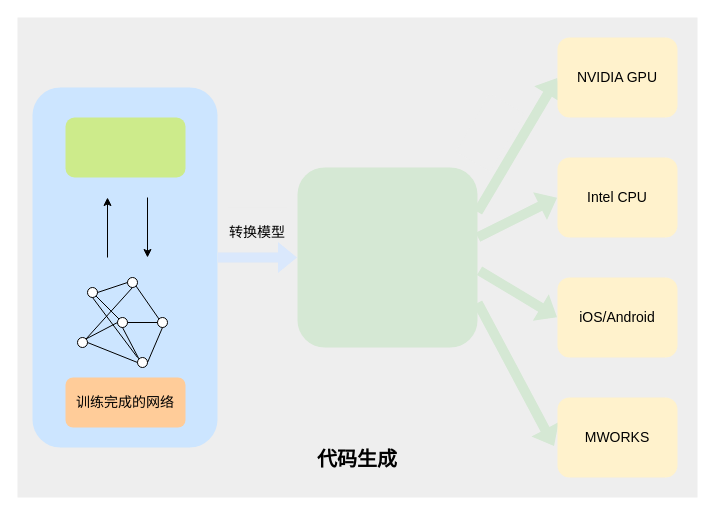
The diagram is 714 pixels wide and 514 high, and some of its shapes have lost their labels. The shapes that lost their labels are listed below. From the top down, each one's centre as x and y in pixels, then its label:
At point (125, 147): "深度学习工具箱".
At point (489, 132): "模型部署".
At point (387, 257): "环境配置、参数选择 MindSpore Lite".
